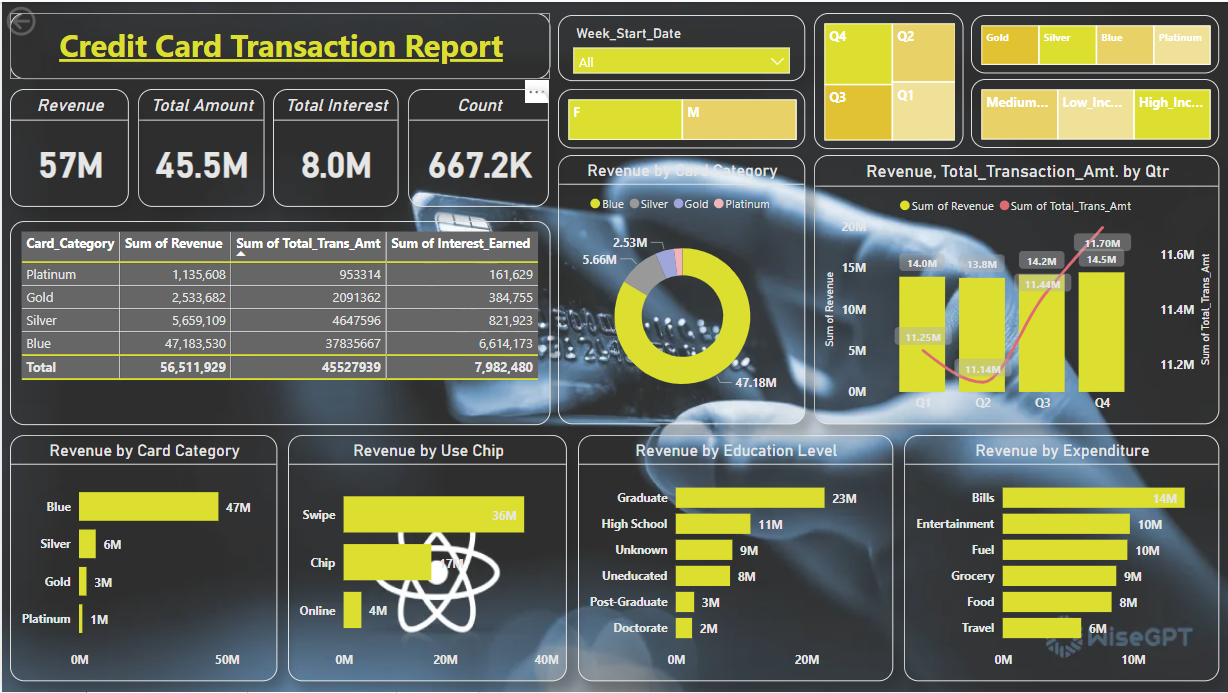

What the dashboard file says about the page in this screenshot:
{"tool":"powerbi","page":{"name":"CC Transaction Report","canvas":[1280,720],"ordinal":0},"visuals":[{"type":"lineStackedColumnComboChart","title":"Revenue, Total_Transaction_Amt. by Qtr","fields":{"Category":["credit_card_details.Qtr"],"Y":["Sum(credit_card_details.Revenue)"],"Y2":["Sum(credit_card_details.Total_Trans_Amt)"]},"box":[847.1,159.8,423,281.2],"z":0},{"type":"barChart","title":"Revenue by Card Category","fields":{"Category":["credit_card_details.Card_Category"],"Y":["Sum(credit_card_details.Revenue)"]},"box":[7.9,452.2,279,256.5],"z":1000},{"type":"barChart","title":"Revenue by Expenditure","fields":{"Y":["Sum(credit_card_details.Revenue)"],"Category":["credit_card_details.Exp Type"]},"box":[941.6,452.2,328.5,256.5],"z":2000},{"type":"barChart","title":"Revenue by Use Chip","fields":{"Y":["Sum(credit_card_details.Revenue)"],"Category":["credit_card_details.Use Chip"]},"box":[298.5,452.2,291.4,256.5],"z":3000},{"type":"barChart","title":"Revenue by Education Level","fields":{"Y":["Sum(credit_card_details.Revenue)"],"Category":["customer_details.Education_Level"]},"box":[601.5,452.2,328.5,256.5],"z":4000},{"type":"tableEx","fields":{"Values":["credit_card_details.Card_Category","Sum(credit_card_details.Revenue)","Sum(credit_card_details.Total_Trans_Amt)","Sum(credit_card_details.Interest_Earned)"]},"box":[7.9,228.4,563.6,212.6],"z":5000},{"type":"actionButton","box":[0,0,100,40],"z":6000},{"type":"donutChart","title":"Revenue by Card Category","fields":{"Category":["credit_card_details.Card_Category"],"Y":["Sum(credit_card_details.Revenue)"]},"box":[580.5,159.8,257.6,281.2],"z":7000},{"type":"textbox","box":[7.9,11.2,563.6,68.6],"z":8000},{"type":"card","title":"Total Amount","fields":{"Values":["Sum(credit_card_details.Total_Trans_Amt)"]},"box":[141.8,91,131.6,122.6],"z":9000},{"type":"card","title":"Count","fields":{"Values":["Sum(credit_card_details.Total_Trans_Vol)"]},"box":[424.1,91.1,147.4,122.6],"z":10000},{"type":"card","title":"Revenue","fields":{"Values":["Sum(credit_card_details.Revenue)"]},"box":[7.9,91,123.8,122.6],"z":11000},{"type":"card","title":"Total Interest","fields":{"Values":["Sum(credit_card_details.Interest_Earned)"]},"box":[282.4,91,130.5,122.6],"z":12000},{"type":"treemap","fields":{"Values":["Avg(credit_card_details.Client_Num)"],"Group":["credit_card_details.Qtr"]},"box":[847.1,11.2,156.4,141.8],"z":13000},{"type":"treemap","fields":{"Values":["Avg(credit_card_details.Client_Num)"],"Group":["credit_card_details.Card_Category"]},"box":[1011.4,13.5,258.8,60.8],"z":14000},{"type":"treemap","fields":{"Values":["Avg(credit_card_details.Client_Num)"],"Group":["customer_details.Gender"]},"box":[580.5,91.1,257.6,61.9],"z":15000},{"type":"slicer","fields":{"Values":["credit_card_details.Week_Start_Date"]},"box":[580.5,13.5,257.6,68.6],"z":16000},{"type":"treemap","fields":{"Values":["Avg(credit_card_details.Client_Num)"],"Group":["customer_details.Income_Group"]},"box":[1011.4,79.9,258.8,72],"z":17000}]}

Visuals, with their boxes in screenshot pixels (x1, y1, x2, y2), scaled from the page's 1280x720 canvas onto the 1228x693 screenshot:
"Revenue, Total_Transaction_Amt. by Qtr" lineStackedColumnComboChart: (x1=813, y1=154, x2=1219, y2=424)
"Revenue by Card Category" barChart: (x1=8, y1=435, x2=275, y2=682)
"Revenue by Expenditure" barChart: (x1=903, y1=435, x2=1219, y2=682)
"Revenue by Use Chip" barChart: (x1=286, y1=435, x2=566, y2=682)
"Revenue by Education Level" barChart: (x1=577, y1=435, x2=892, y2=682)
tableEx - credit_card_details.Card_Category x Sum(credit_card_details.Revenue): (x1=8, y1=220, x2=548, y2=424)
actionButton: (x1=0, y1=0, x2=96, y2=38)
"Revenue by Card Category" donutChart: (x1=557, y1=154, x2=804, y2=424)
textbox: (x1=8, y1=11, x2=548, y2=77)
"Total Amount" card: (x1=136, y1=88, x2=262, y2=206)
"Count" card: (x1=407, y1=88, x2=548, y2=206)
"Revenue" card: (x1=8, y1=88, x2=126, y2=206)
"Total Interest" card: (x1=271, y1=88, x2=396, y2=206)
treemap - Avg(credit_card_details.Client_Num) x credit_card_details.Qtr: (x1=813, y1=11, x2=963, y2=147)
treemap - Avg(credit_card_details.Client_Num) x credit_card_details.Card_Category: (x1=970, y1=13, x2=1219, y2=72)
treemap - Avg(credit_card_details.Client_Num) x customer_details.Gender: (x1=557, y1=88, x2=804, y2=147)
slicer - credit_card_details.Week_Start_Date: (x1=557, y1=13, x2=804, y2=79)
treemap - Avg(credit_card_details.Client_Num) x customer_details.Income_Group: (x1=970, y1=77, x2=1219, y2=146)
